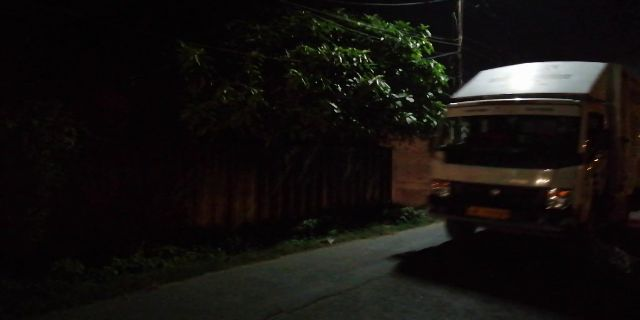Truck: (430, 56, 630, 249)
